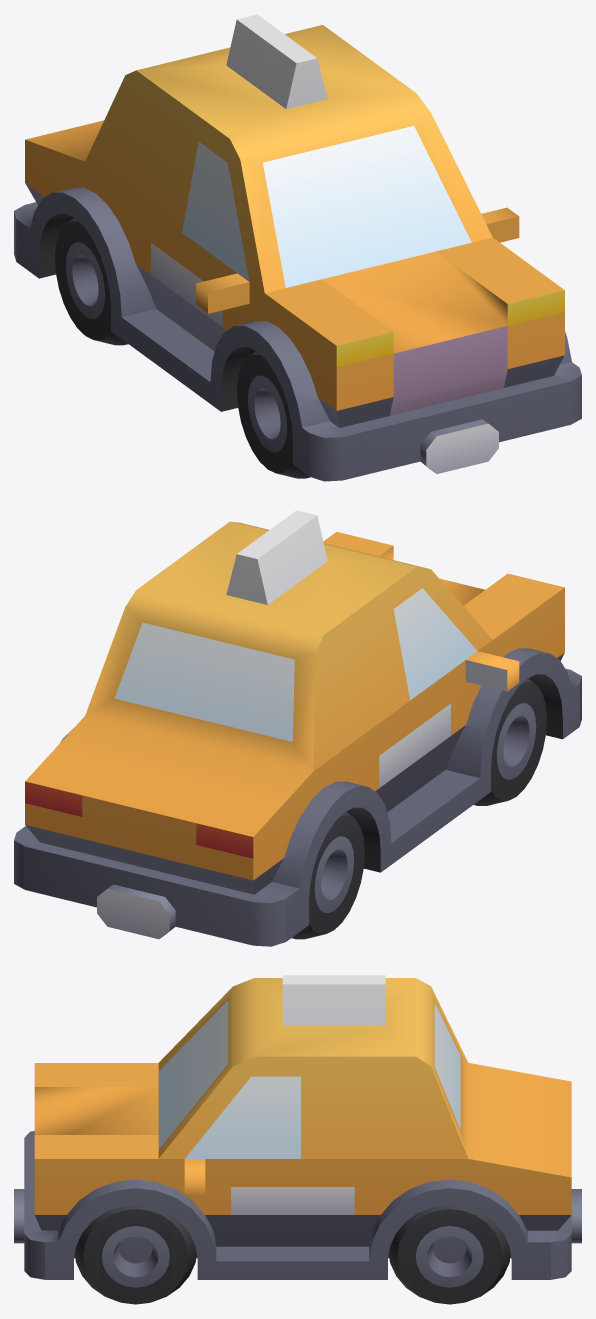
Rendered from taxi.glb.
The picture shows the model from 3 angles, top to bottom: view 1: azimuth 30°, elevation 25°; view 2: azimuth 150°, elevation 25°; view 3: azimuth 270°, elevation 25°; orthographic projection. The views are drawn at different scales.
Parts seen in each view (by area): view 1: body, wheel-front-right, wheel-back-right; view 2: body, wheel-back-right, wheel-front-right; view 3: body, wheel-front-left, wheel-back-left.
Boxes of the visible parts, left/top/right/bottom form: body: left=14, top=14, right=581, bottom=481; wheel-front-right: left=237, top=350, right=310, bottom=478; wheel-back-right: left=55, top=217, right=128, bottom=345; body: left=14, top=510, right=581, bottom=946; wheel-back-right: left=291, top=811, right=364, bottom=939; wheel-front-right: left=473, top=678, right=546, bottom=805; body: left=14, top=975, right=581, bottom=1279; wheel-front-left: left=75, top=1205, right=196, bottom=1304; wheel-back-left: left=388, top=1205, right=510, bottom=1304.
Bounding box in the file's own units: 1.5 × 1.5 × 2.75.
Materials: 1 (1 with a texture image).
